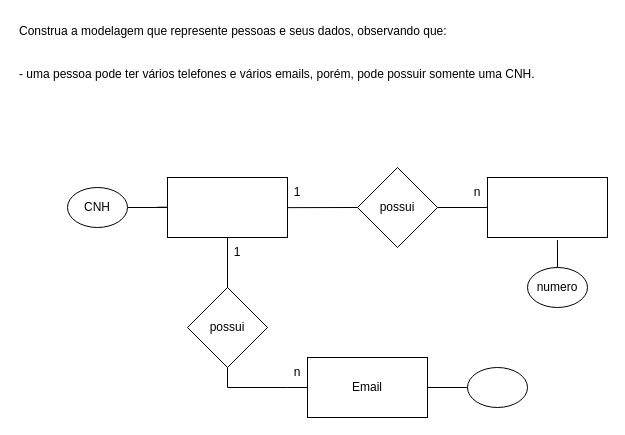
The diagram is 625 pixels wide and 435 high, and some of its shapes have lost their labels. Here are the shapes that lost their labels. From the top down, the centre of each, then its label:
the point at 227,207: Pessoa
the point at 547,207: Telefone
the point at 497,387: Senha
